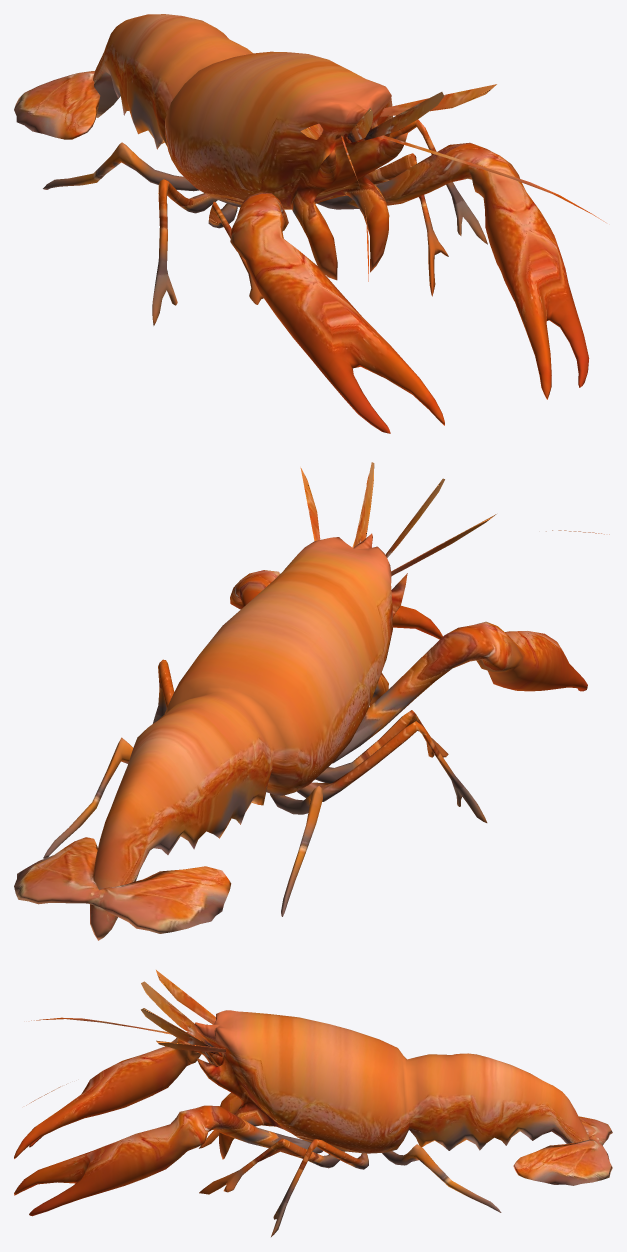
Rendered from cambarellus.glb.
3 renders of one model, top to bottom at view 1: azimuth 30°, elevation 25°; view 2: azimuth 150°, elevation 25°; view 3: azimuth 270°, elevation 25°, orthographic. The views are drawn at different scales.
Visible parts, largest first — view 1: cambarellus; view 2: cambarellus; view 3: cambarellus.
Boxes of the visible parts, x1,y1,x2,y2 form: cambarellus: (14, 14, 605, 433); cambarellus: (14, 462, 609, 940); cambarellus: (14, 970, 612, 1236).
Size of the model in its own units: 0.0161 by 0.0117 by 0.034.
1 material, 1 textured.
